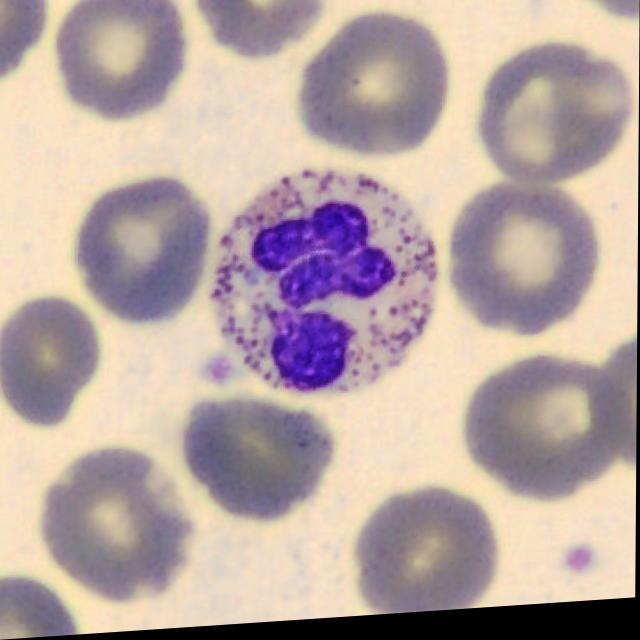Neutrofilo segmentado: (210, 169, 439, 406)
